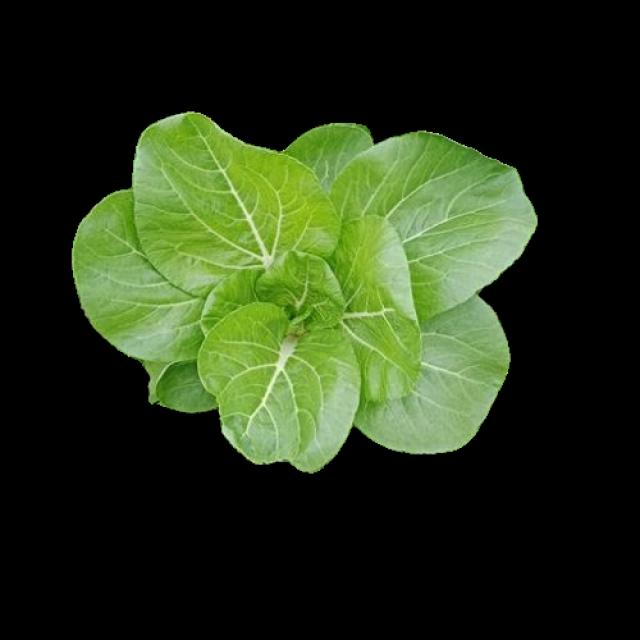healthy: (72, 110, 531, 462)
mature: (74, 112, 534, 464)
